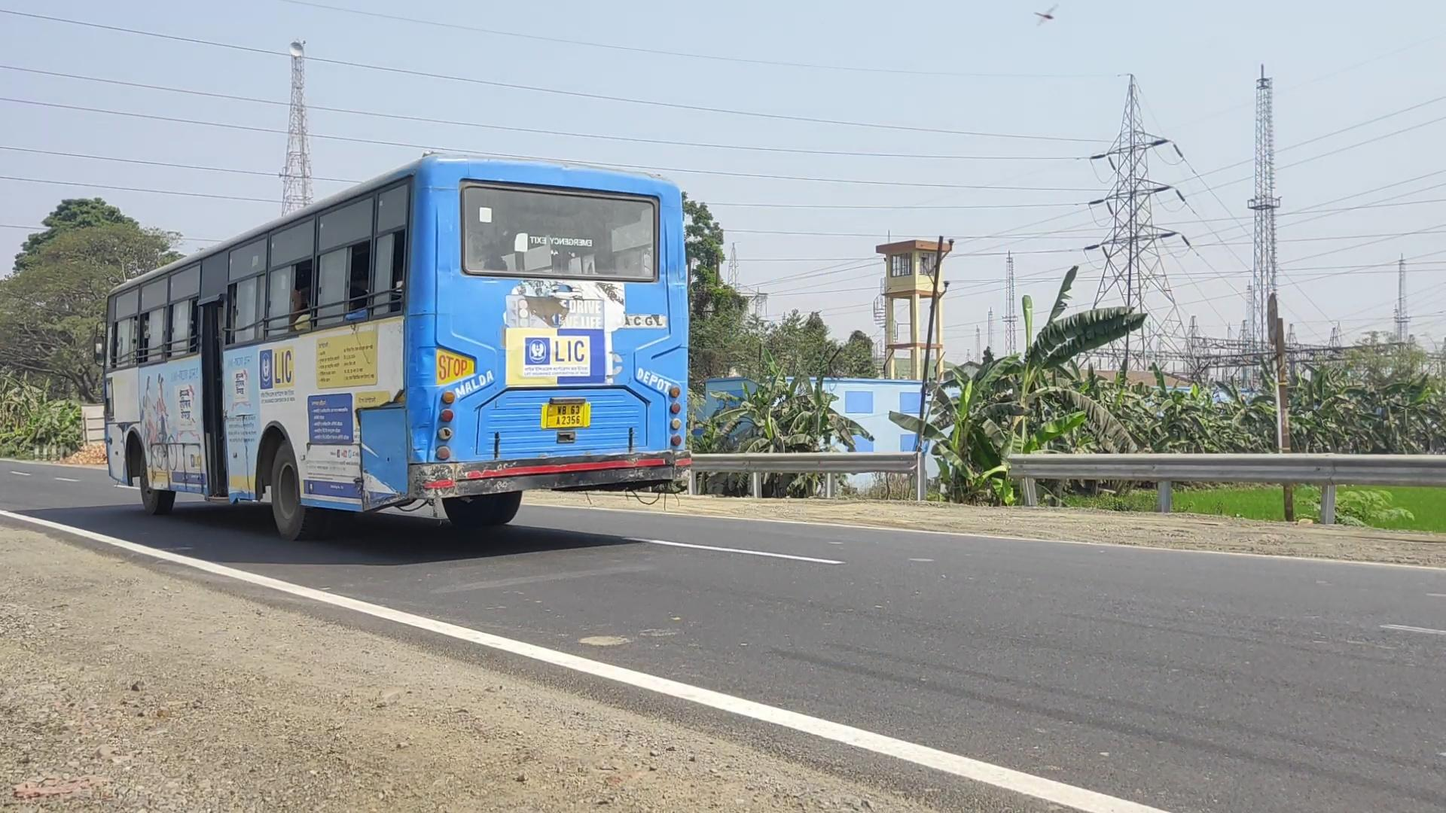Bus: (94, 151, 692, 542)
